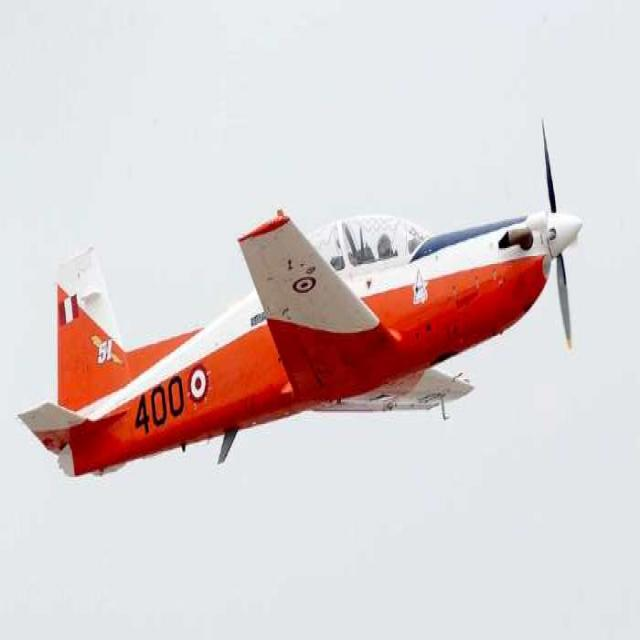KT-1: (18, 116, 579, 474)
